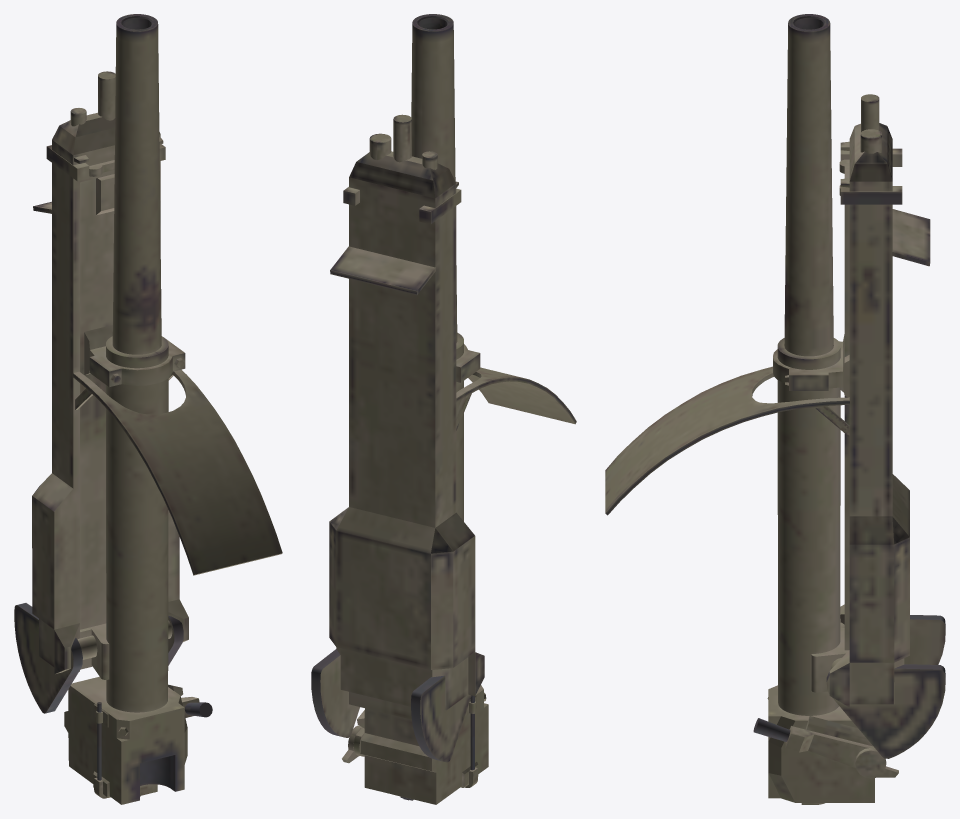
File: Gun_03.glb
3 views of the same model, side by side, from view 1: azimuth 30°, elevation 25°; view 2: azimuth 150°, elevation 25°; view 3: azimuth 270°, elevation 25° (orthographic).
Visible parts, largest first — view 1: set_0_group_0; view 2: set_0_group_0; view 3: set_0_group_0.
Part boxes in pixels (x1,y1,x2,y2): set_0_group_0: (14, 14, 282, 804); set_0_group_0: (311, 14, 576, 804); set_0_group_0: (605, 14, 945, 804).
Bounding box in the file's own units: 0.4242 × 2.5 × 0.9936.
1 material, 1 textured.
